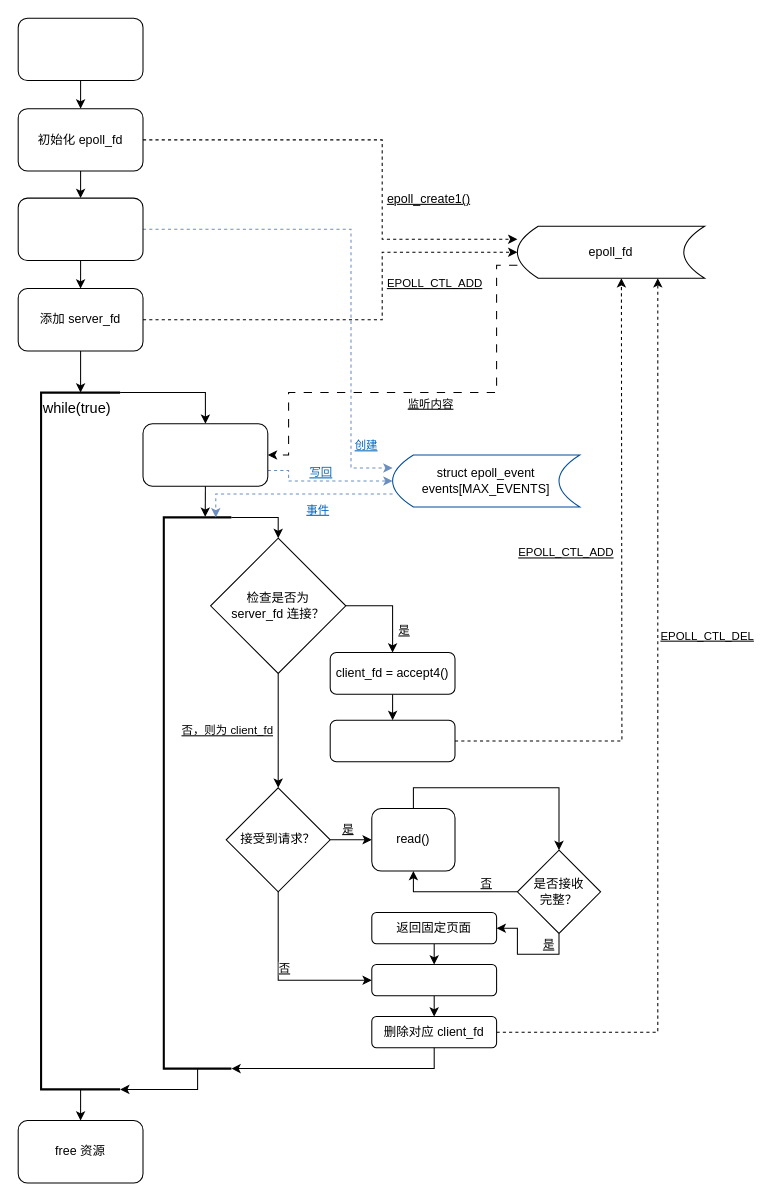
This 773x1201 diagram has some shape labels left out. Here are the shapes that lost their labels. From the top down, the box of each, then its label:
(17, 17, 143, 81): 创建 server_fd
(17, 197, 143, 261): 创建 events 数组
(142, 423, 268, 486): ready = epoll_wait()
(329, 719, 455, 762): 添加监听 client_fd
(162, 516, 232, 1069): 依次检查 可读 事件
(371, 964, 497, 996): 关闭连接
